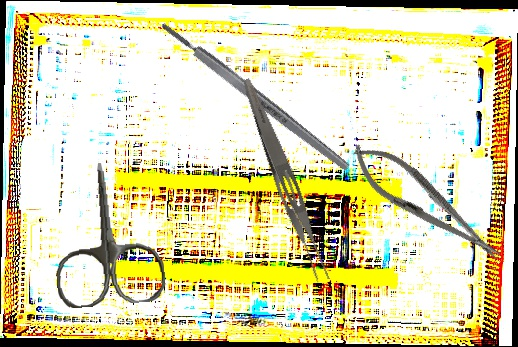Dressing Forceps: (232, 76, 336, 285)
Iris Scissors: (47, 158, 167, 310)
Needle Holder: (341, 132, 511, 275)
Scalpel Handle: (157, 18, 353, 175)
